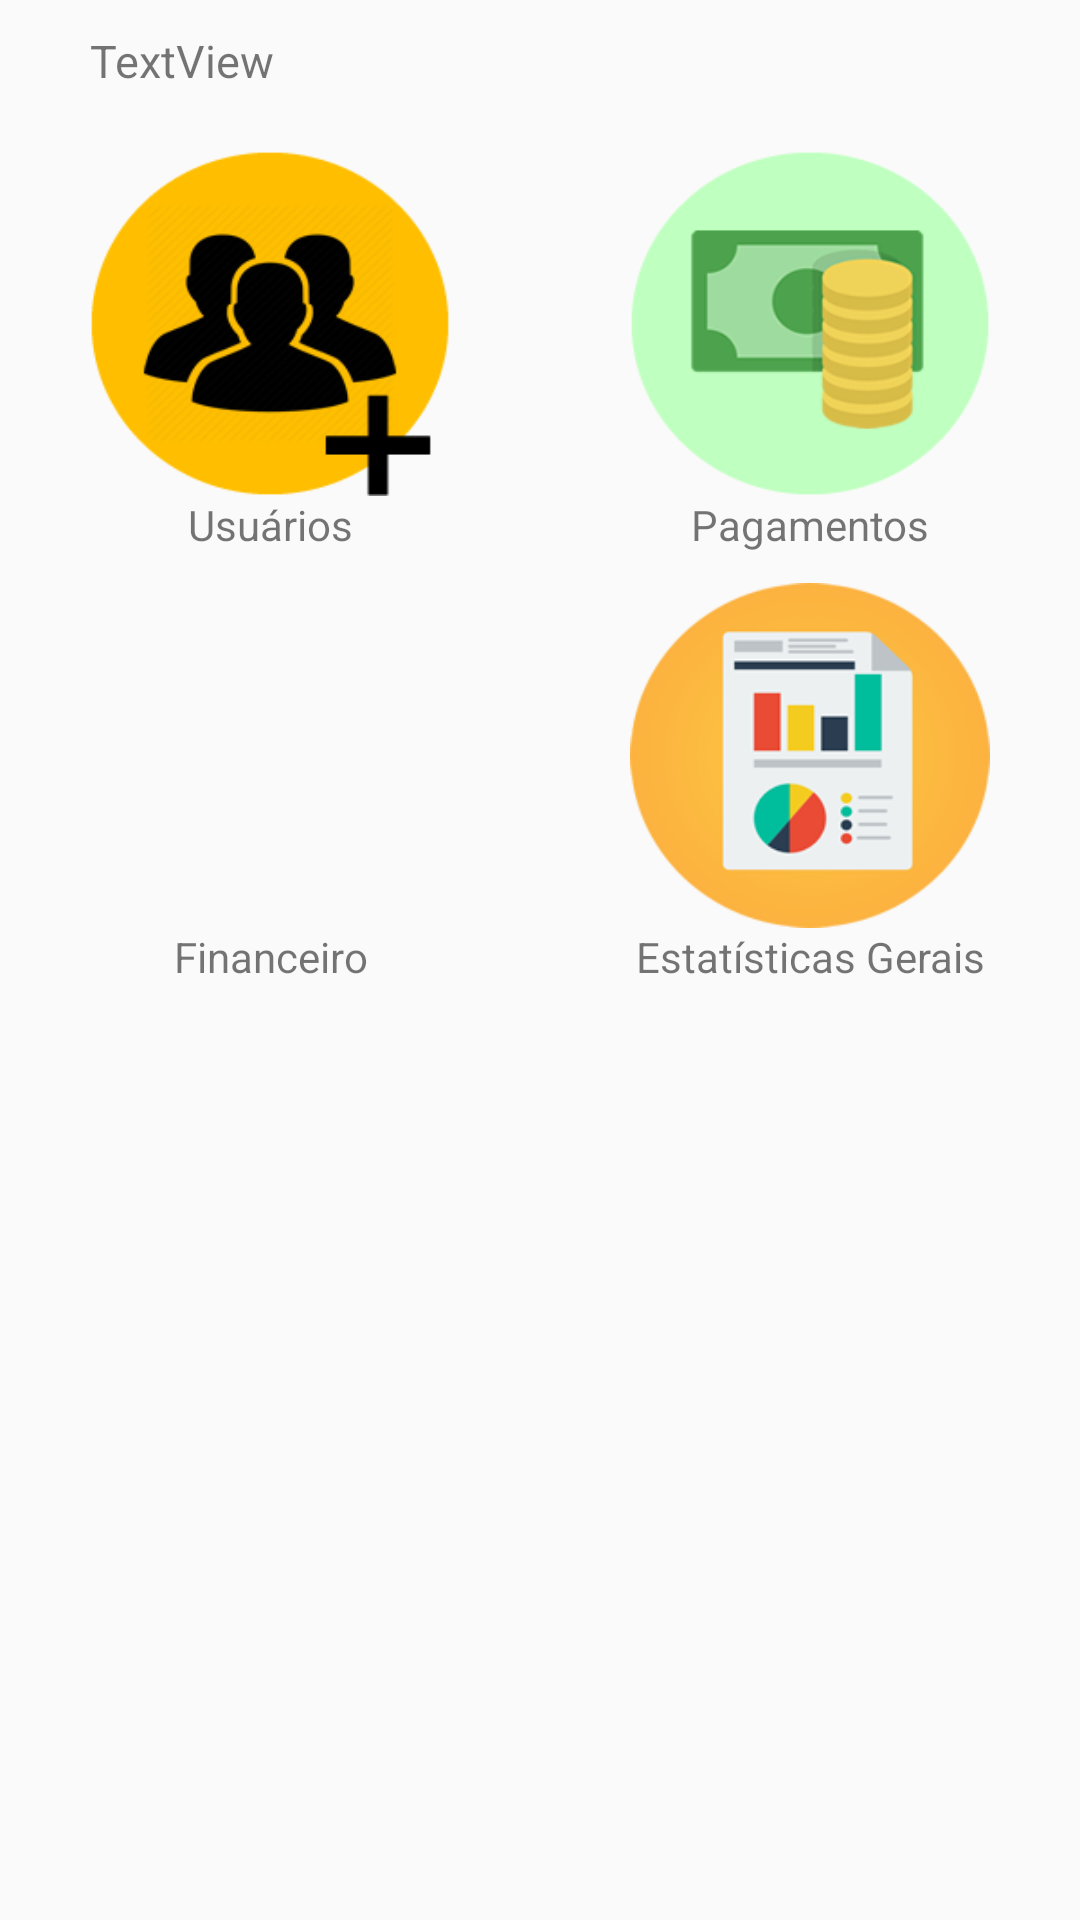

Icons on this 1080×1920 Android screen, each with its box as (x1, y1, x2, y2):
admin novo usuario: (91, 152, 449, 496)
relatorios: (630, 583, 990, 928)
